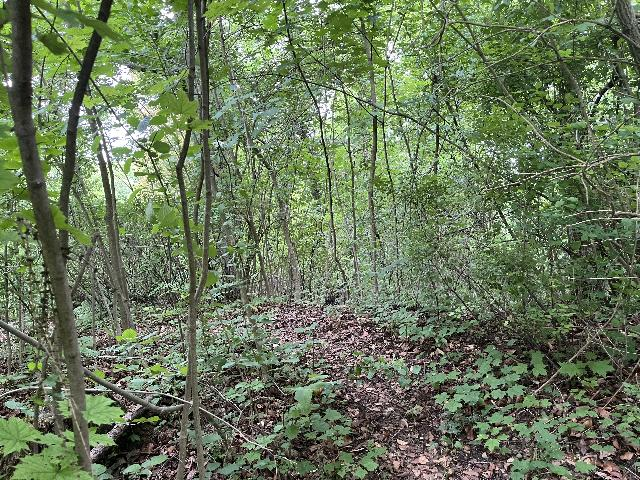plastic_bottle: (305, 380, 335, 395)
